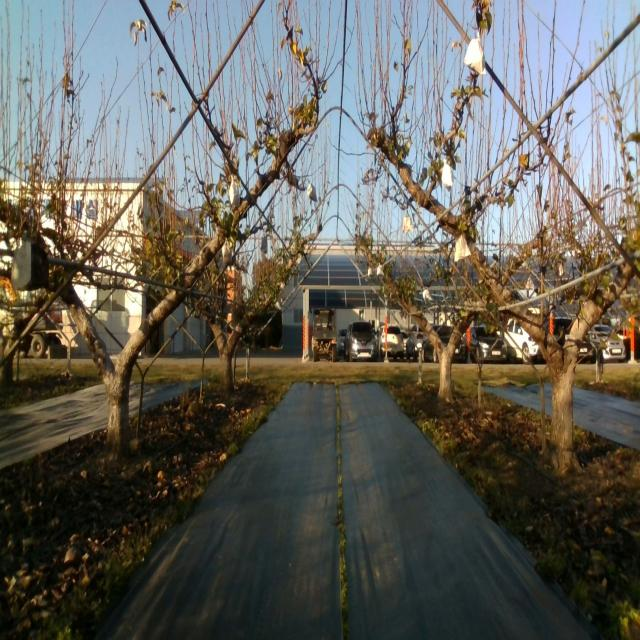pearbags: (464, 29, 486, 74), (454, 235, 471, 263), (230, 175, 240, 207), (442, 158, 453, 186), (402, 211, 412, 233)
